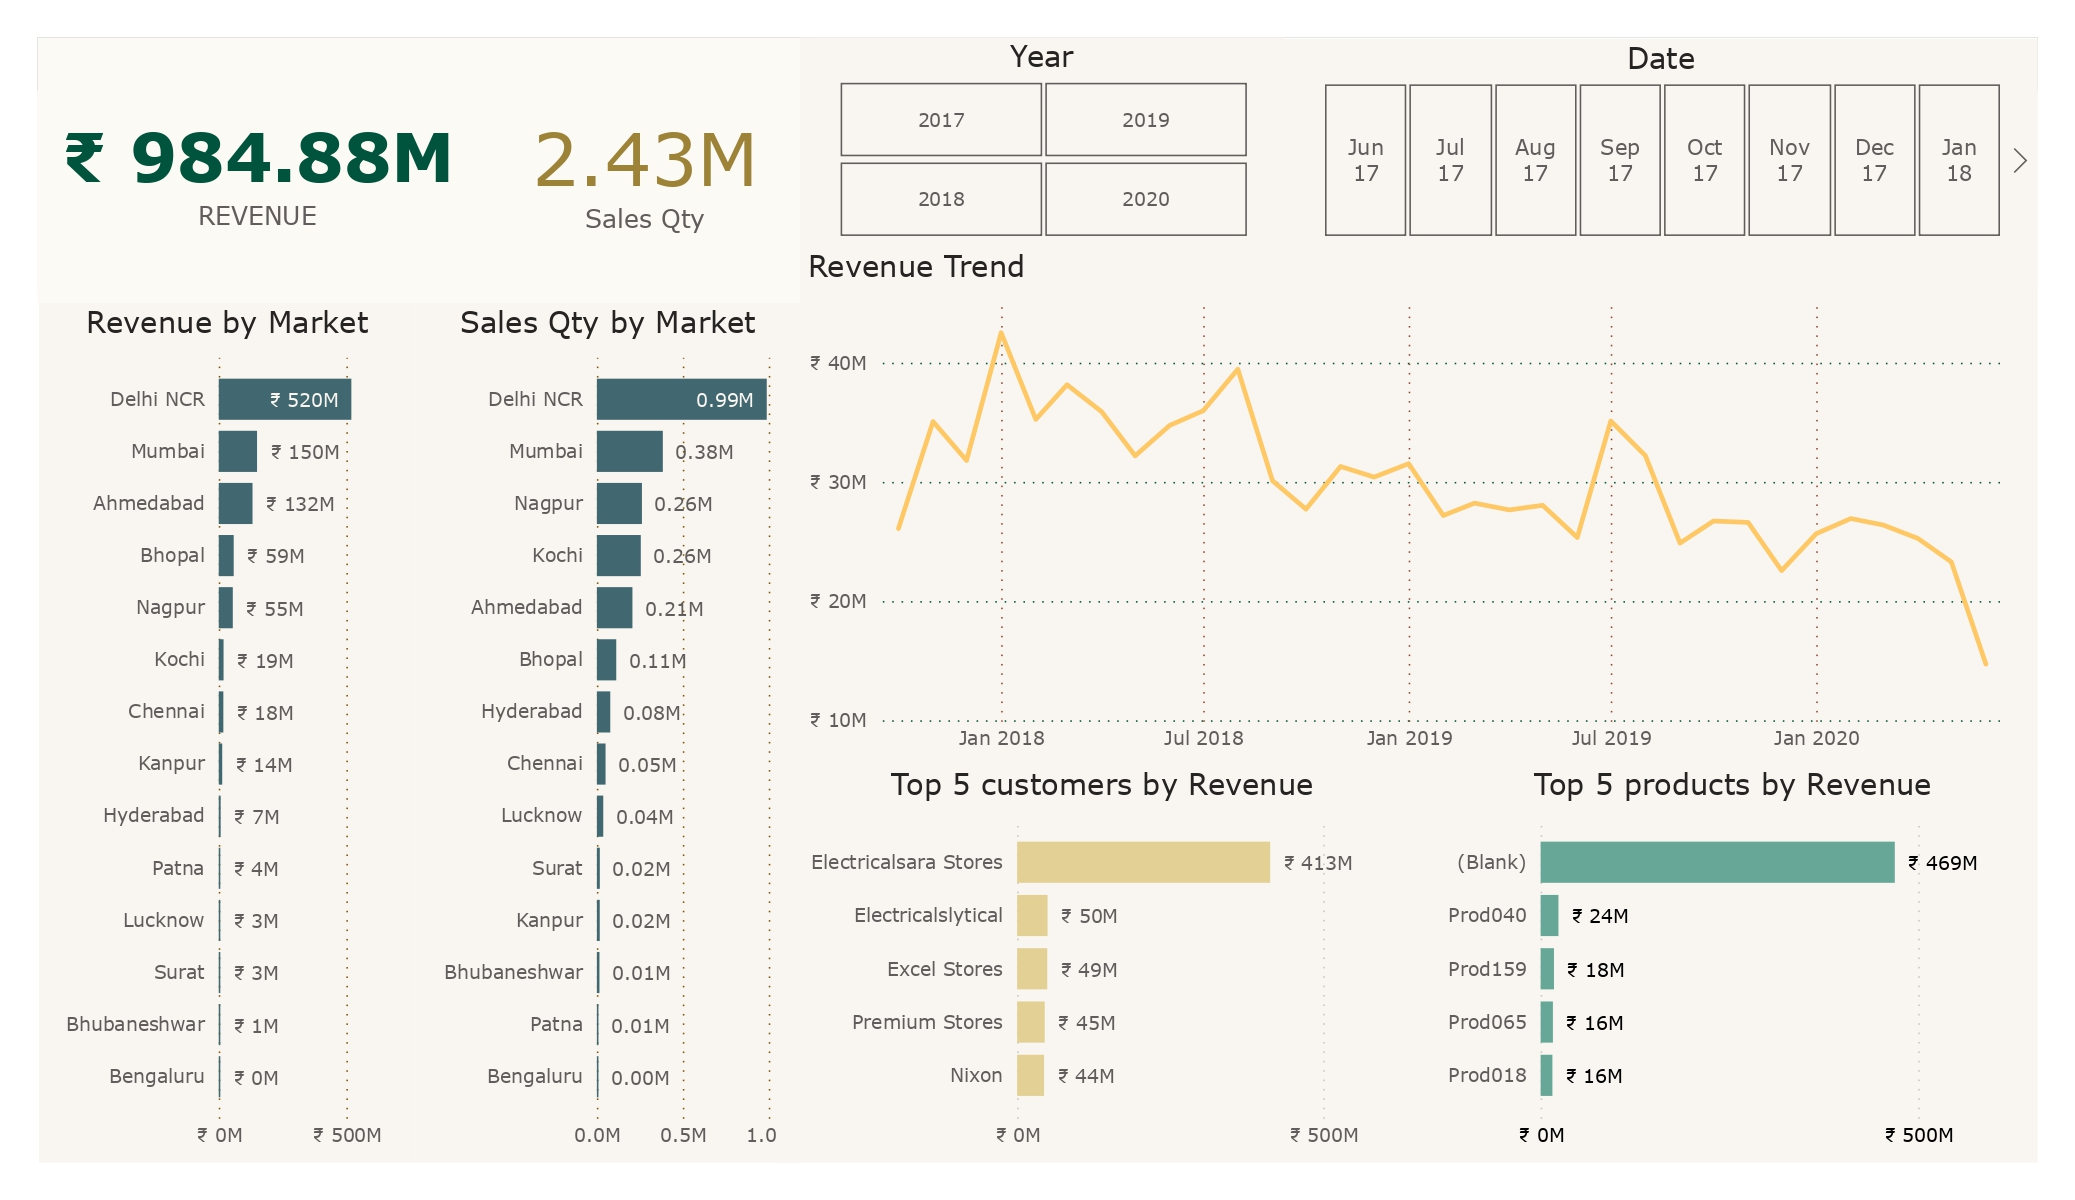

This screenshot's page, from the dashboard's own definition file:
{"tool":"powerbi","page":{"name":"Page 1","canvas":[1280,720],"ordinal":0},"visuals":[{"type":"card","fields":{"Values":["BaseMeasures.REVENUE"]},"box":[0,0,281,170.1],"z":0},{"type":"card","fields":{"Values":["BaseMeasures.Sales Qty"]},"box":[281.2,0,216.1,169.6],"z":1000},{"type":"barChart","title":"Revenue by Market","fields":{"Y":["BaseMeasures.REVENUE"],"Category":["sales markets.markets_name"]},"box":[1.2,170.1,241.2,549.9],"z":2000},{"type":"barChart","title":"Sales Qty by Market","fields":{"Y":["BaseMeasures.Sales Qty"],"Category":["sales markets.markets_name"]},"box":[242.4,170.1,246,549.9],"z":3000},{"type":"slicer","title":"Year","fields":{"Values":["sales date.year"]},"box":[488.4,0,309.9,133.9],"z":4000},{"type":"slicer","title":"Date","fields":{"Values":["sales date.cy_date"]},"box":[798.4,1.2,481.2,132.7],"z":5000},{"type":"barChart","title":"Top 5 customers by Revenue","fields":{"Y":["BaseMeasures.REVENUE"],"Category":["sales customers.custmer_name"]},"box":[472.8,465.5,417.3,254.5],"z":6000},{"type":"barChart","title":"Top 5 products by Revenue","fields":{"Y":["BaseMeasures.REVENUE"],"Category":["sales products.product_code"]},"box":[890.1,465.5,389.5,254.5],"z":7000},{"type":"lineChart","title":"Revenue Trend","fields":{"Y":["BaseMeasures.REVENUE"],"Category":["sales date.cy_date"]},"box":[488.4,133.9,791.2,331.7],"z":8000}]}

Visuals, with their boxes on the page's 1280x720 design canvas (x1, y1, x2, y2). These are canvas units, not pixel positions in the 2075x1200 screenshot, which may show the page scaled, cropped or inside an application window:
card - BaseMeasures.REVENUE: x1=0, y1=0, x2=281, y2=170
card - BaseMeasures.Sales Qty: x1=281, y1=0, x2=497, y2=170
"Revenue by Market" barChart: x1=1, y1=170, x2=242, y2=720
"Sales Qty by Market" barChart: x1=242, y1=170, x2=488, y2=720
"Year" slicer: x1=488, y1=0, x2=798, y2=134
"Date" slicer: x1=798, y1=1, x2=1280, y2=134
"Top 5 customers by Revenue" barChart: x1=473, y1=466, x2=890, y2=720
"Top 5 products by Revenue" barChart: x1=890, y1=466, x2=1280, y2=720
"Revenue Trend" lineChart: x1=488, y1=134, x2=1280, y2=466
